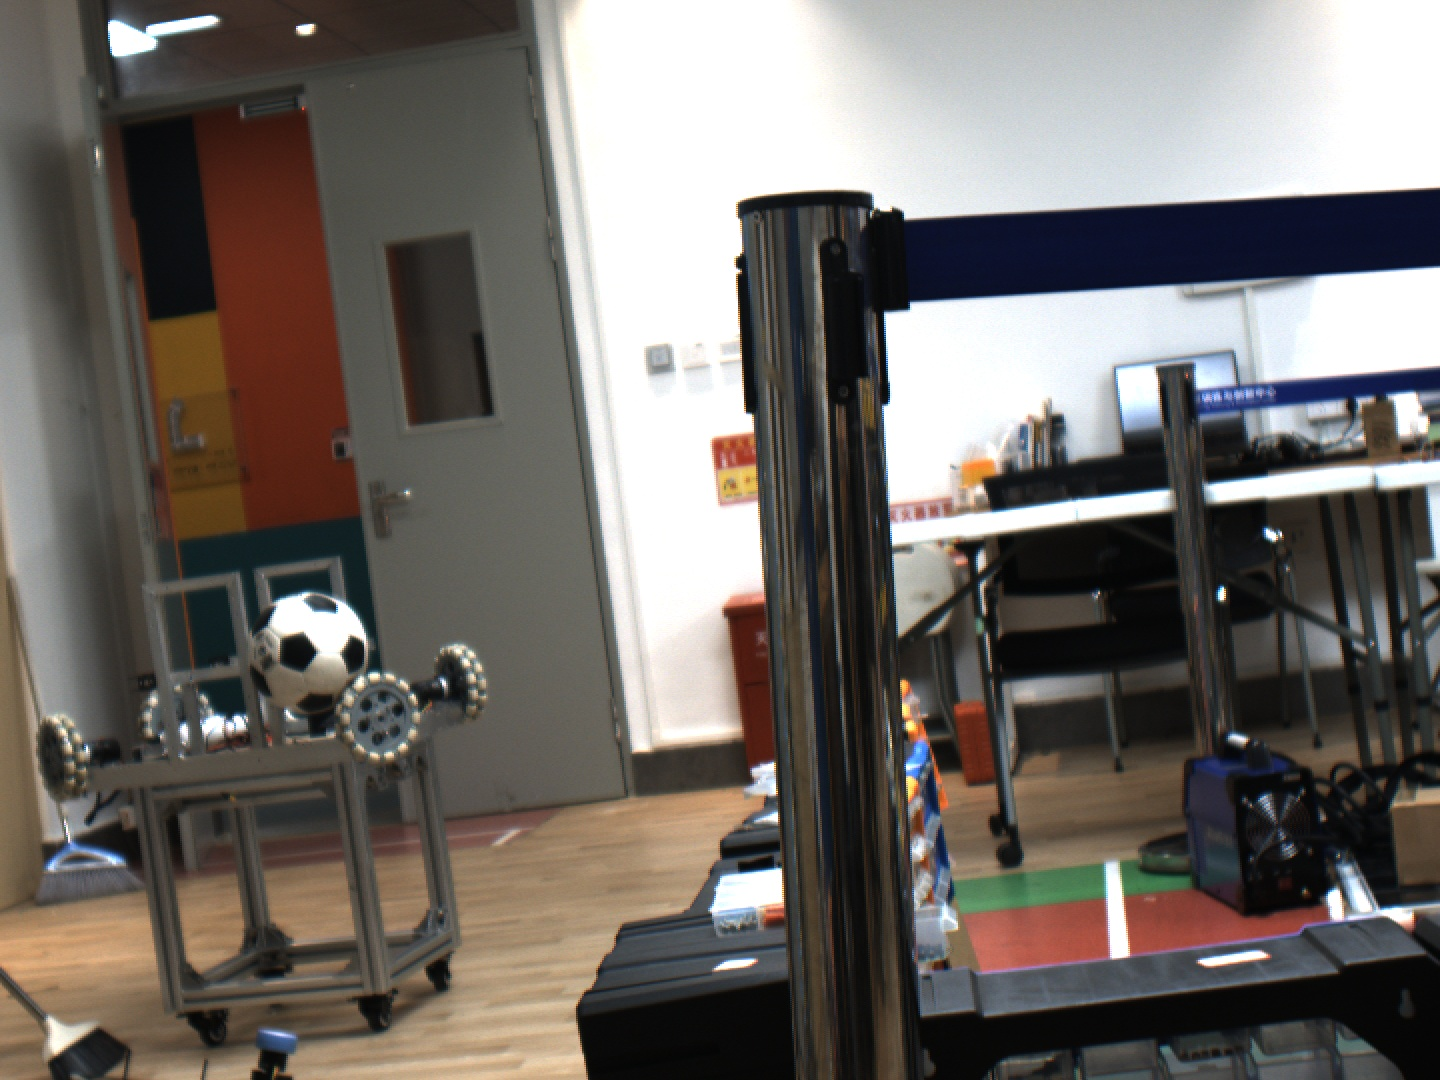ball: (235, 577, 380, 719)
